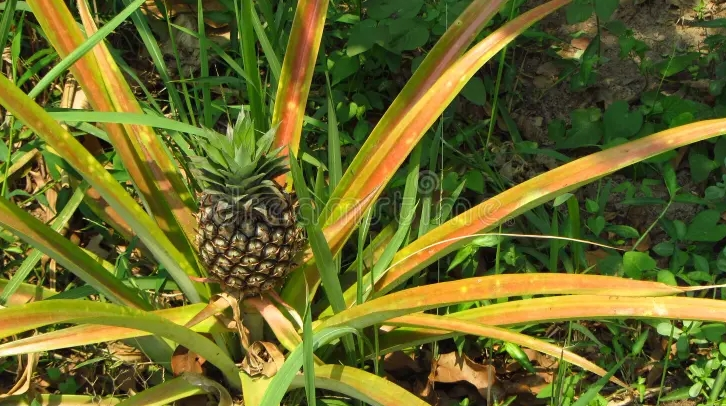rotten pineapple: (178, 115, 325, 318)
